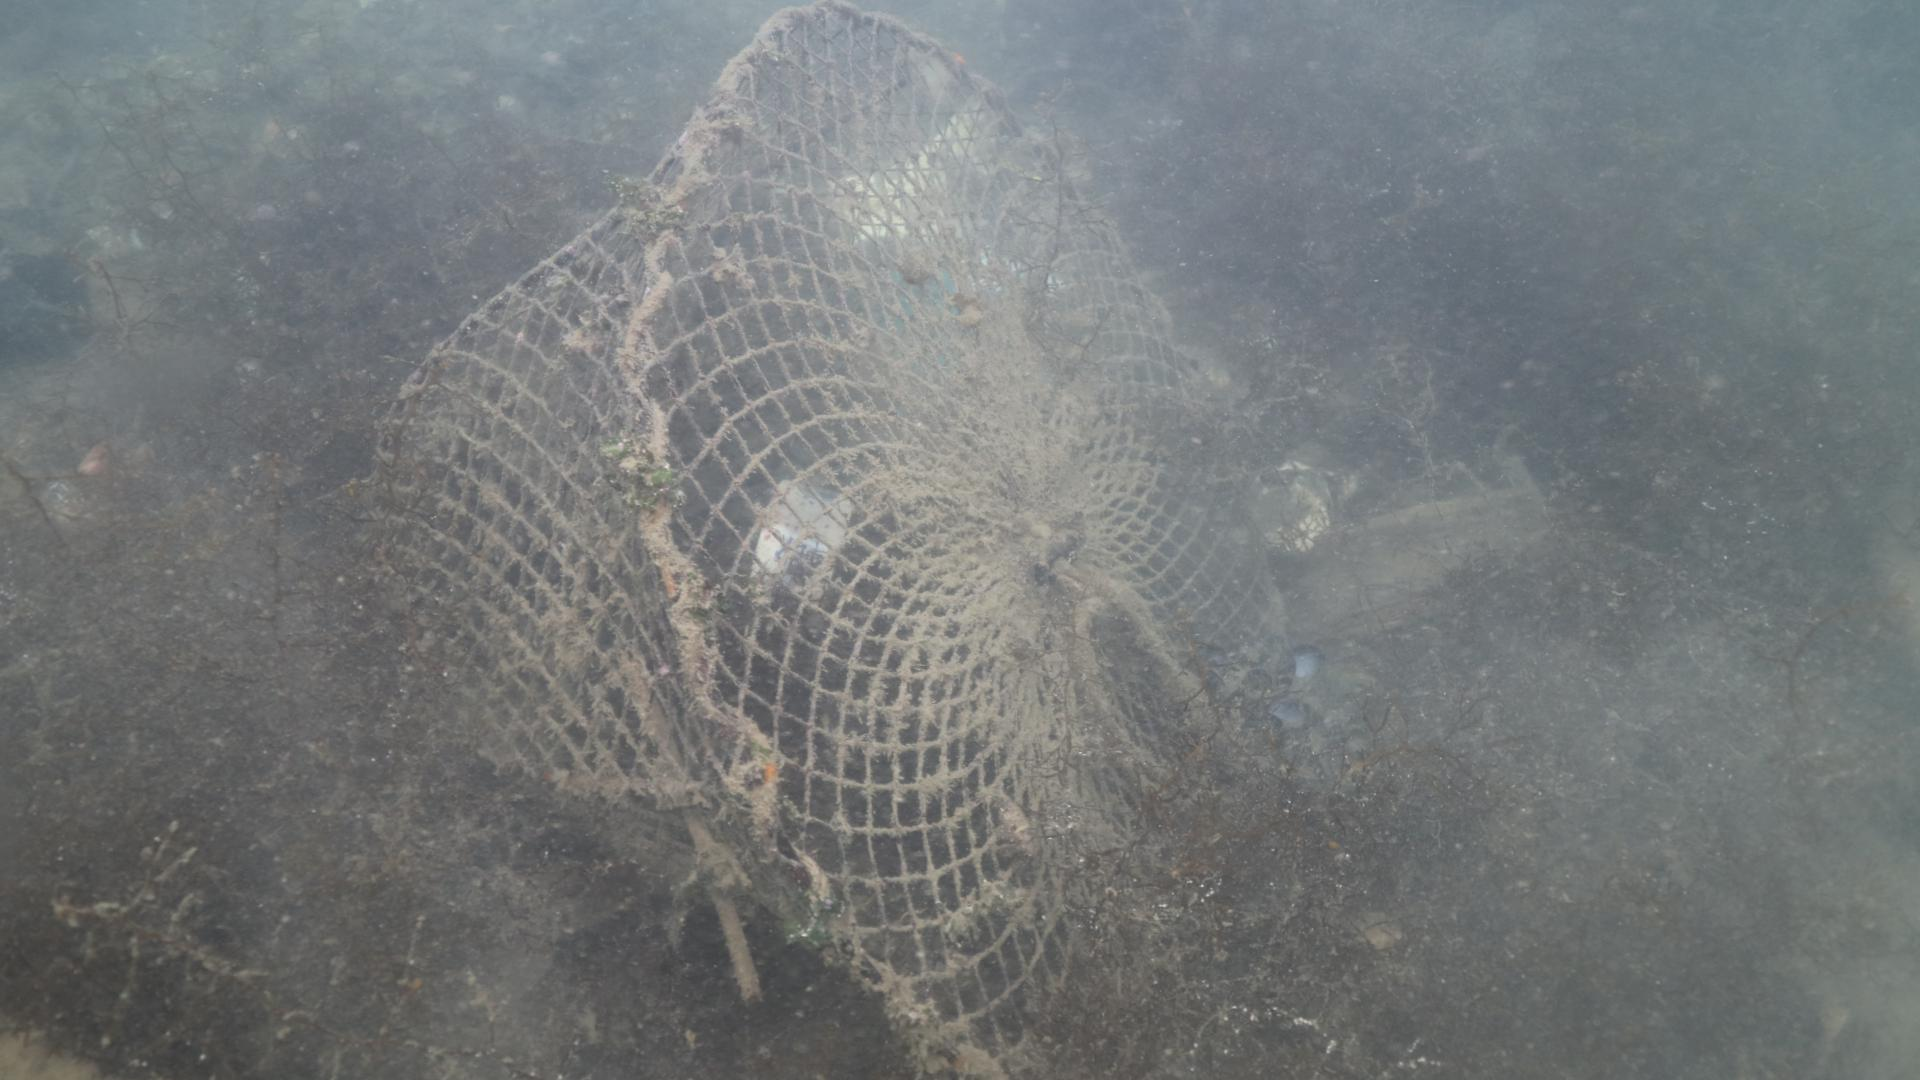circular fish trap: (351, 3, 1286, 1080)
